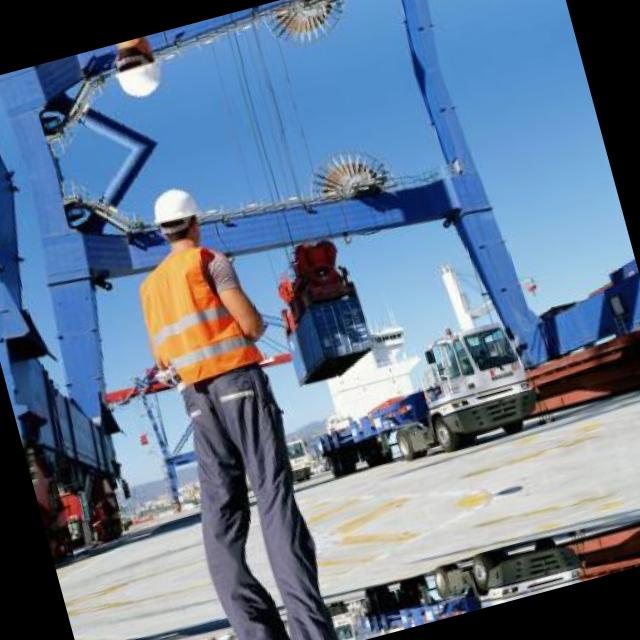helmet: (103, 33, 172, 111), (142, 176, 210, 254)
